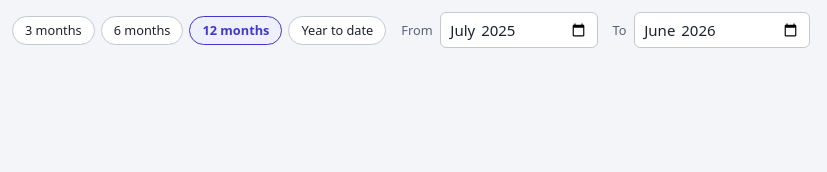
Test: PeriodPicker › offers quick periods and marks the one that matches
Later steps or results of the test are not shown.
What coordinates should you click on to do the following:
click the button "3 months"
I would click on:
 (53, 30)
Its box is [12,16,95,44].
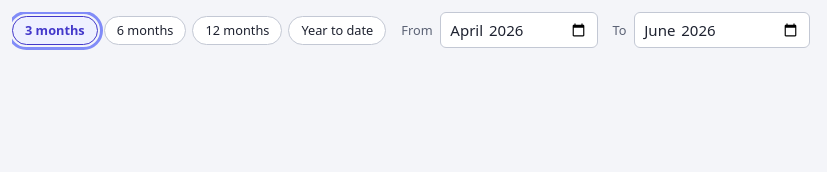
Expected: the button "3 months" is pressed, [12,16,98,44]
